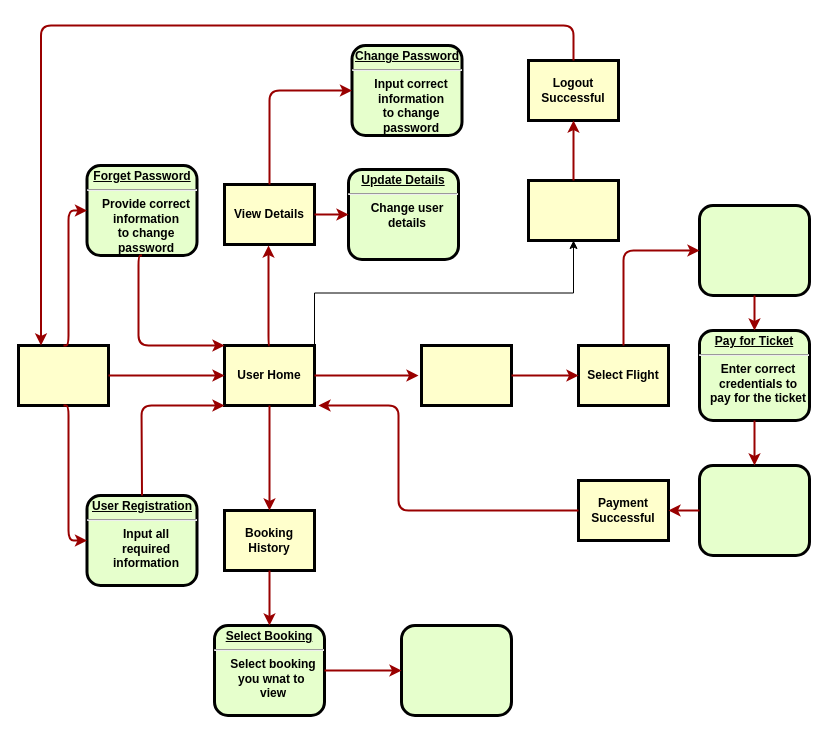
Some shapes in this 828 by 734 pixel diagram are drawn without their labels. Here are the shapes that lost their labels. From the top down, the centre of each, then its label:
At point (573, 210): "Logout".
At point (754, 250): "Seat Count Enter how many passengers will travel".
At point (63, 375): "User Login".
At point (466, 375): "Book flight".
At point (754, 510): "Passenger Information Provide passenger information".
At point (456, 670): "Booking Information All booking and passenger info will display".
